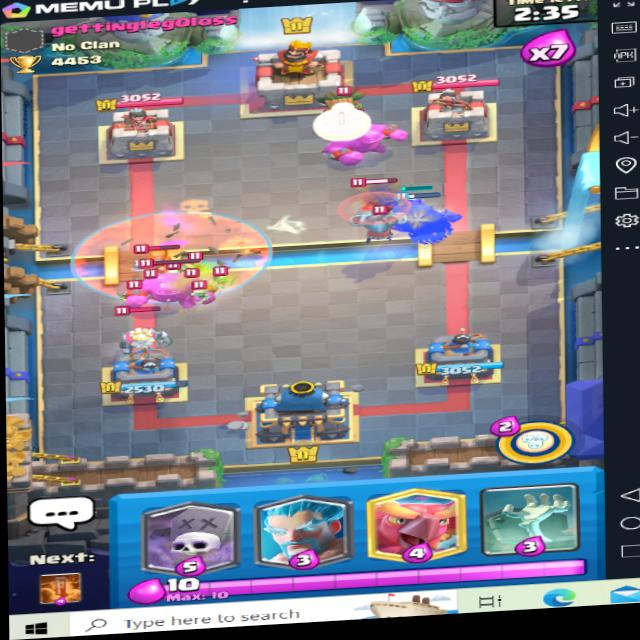dart-goblin: (310, 86, 369, 120)
electro-golem: (312, 113, 415, 165), (127, 265, 218, 313)
mega-minion: (339, 202, 419, 243)
musketeer: (341, 179, 407, 214)
royal-ghost: (105, 313, 176, 359)
skeleton: (188, 280, 222, 303), (209, 265, 242, 285), (115, 278, 144, 299), (184, 250, 203, 272), (128, 259, 155, 274)
valkyrie: (131, 240, 187, 274)
